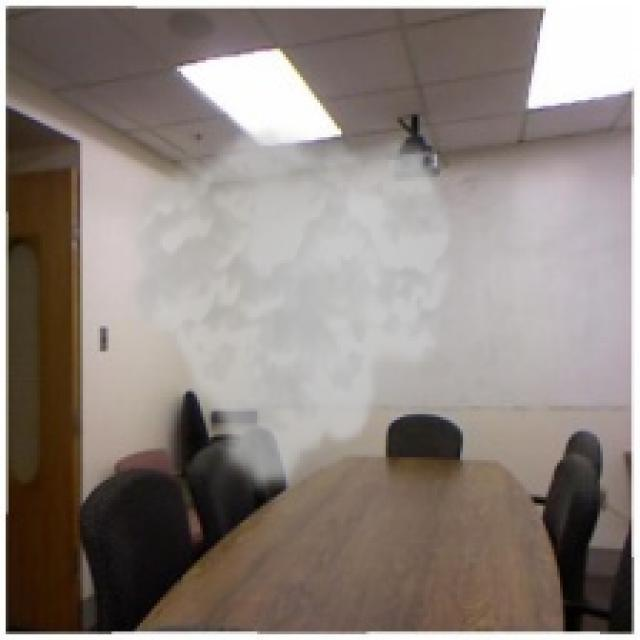Smoke: (117, 122, 463, 498)
